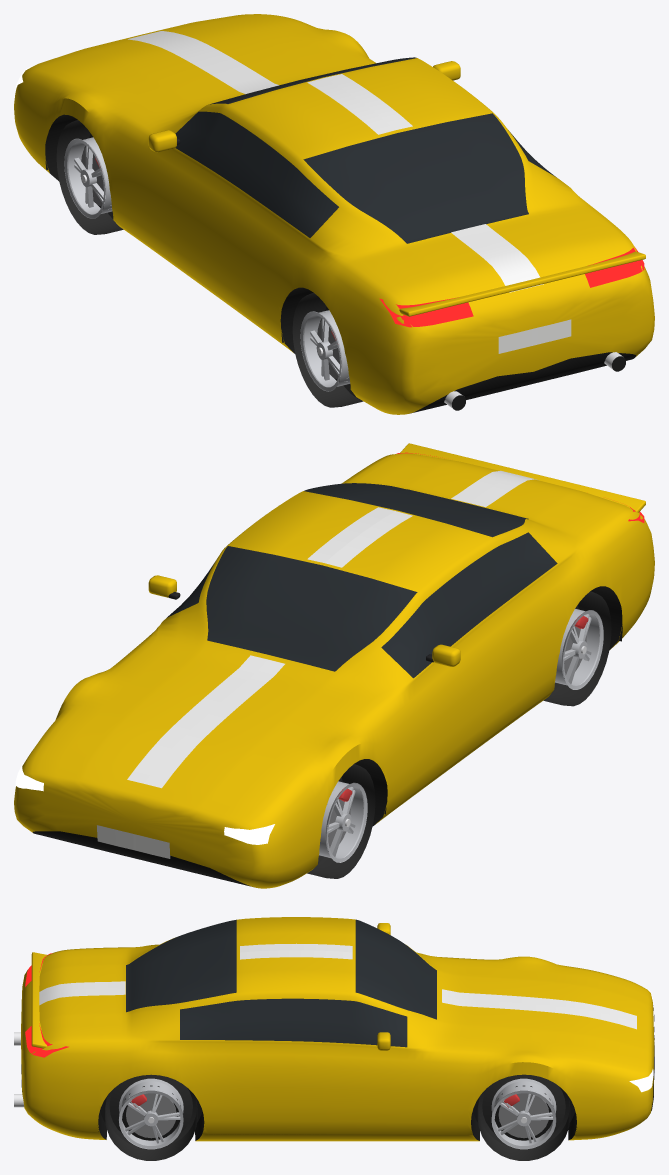
File: camaro_lt.glb
3 renders of one model, top to bottom at view 1: azimuth 30°, elevation 25°; view 2: azimuth 150°, elevation 25°; view 3: azimuth 270°, elevation 25°, orthographic. The views are drawn at different scales.
Visible parts, largest first — view 1: Body, Wheel_RL, Wheel_FL; view 2: Body, Wheel_FL, Wheel_RL; view 3: Body, Wheel_FR, Wheel_RR.
Boxes of the visible parts, x1,y1,x2,y2 form: Body: (14, 14, 654, 414); Wheel_RL: (292, 292, 363, 407); Wheel_FL: (56, 120, 123, 234); Body: (14, 443, 654, 888); Wheel_FL: (307, 764, 375, 878); Wheel_RL: (543, 591, 611, 706); Body: (14, 917, 654, 1141); Wheel_FR: (477, 1074, 570, 1160); Wheel_RR: (105, 1074, 197, 1160).
Bounding box in the file's own units: 2.11 × 1.34 × 4.83.
